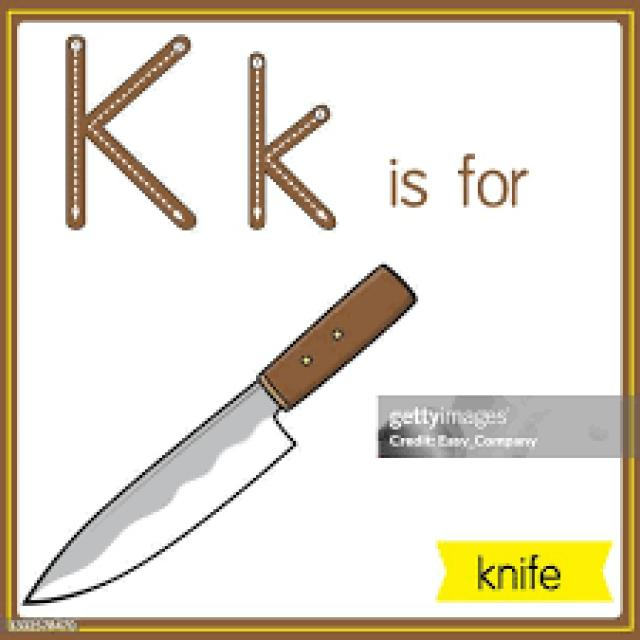Knife: (20, 262, 415, 603)
